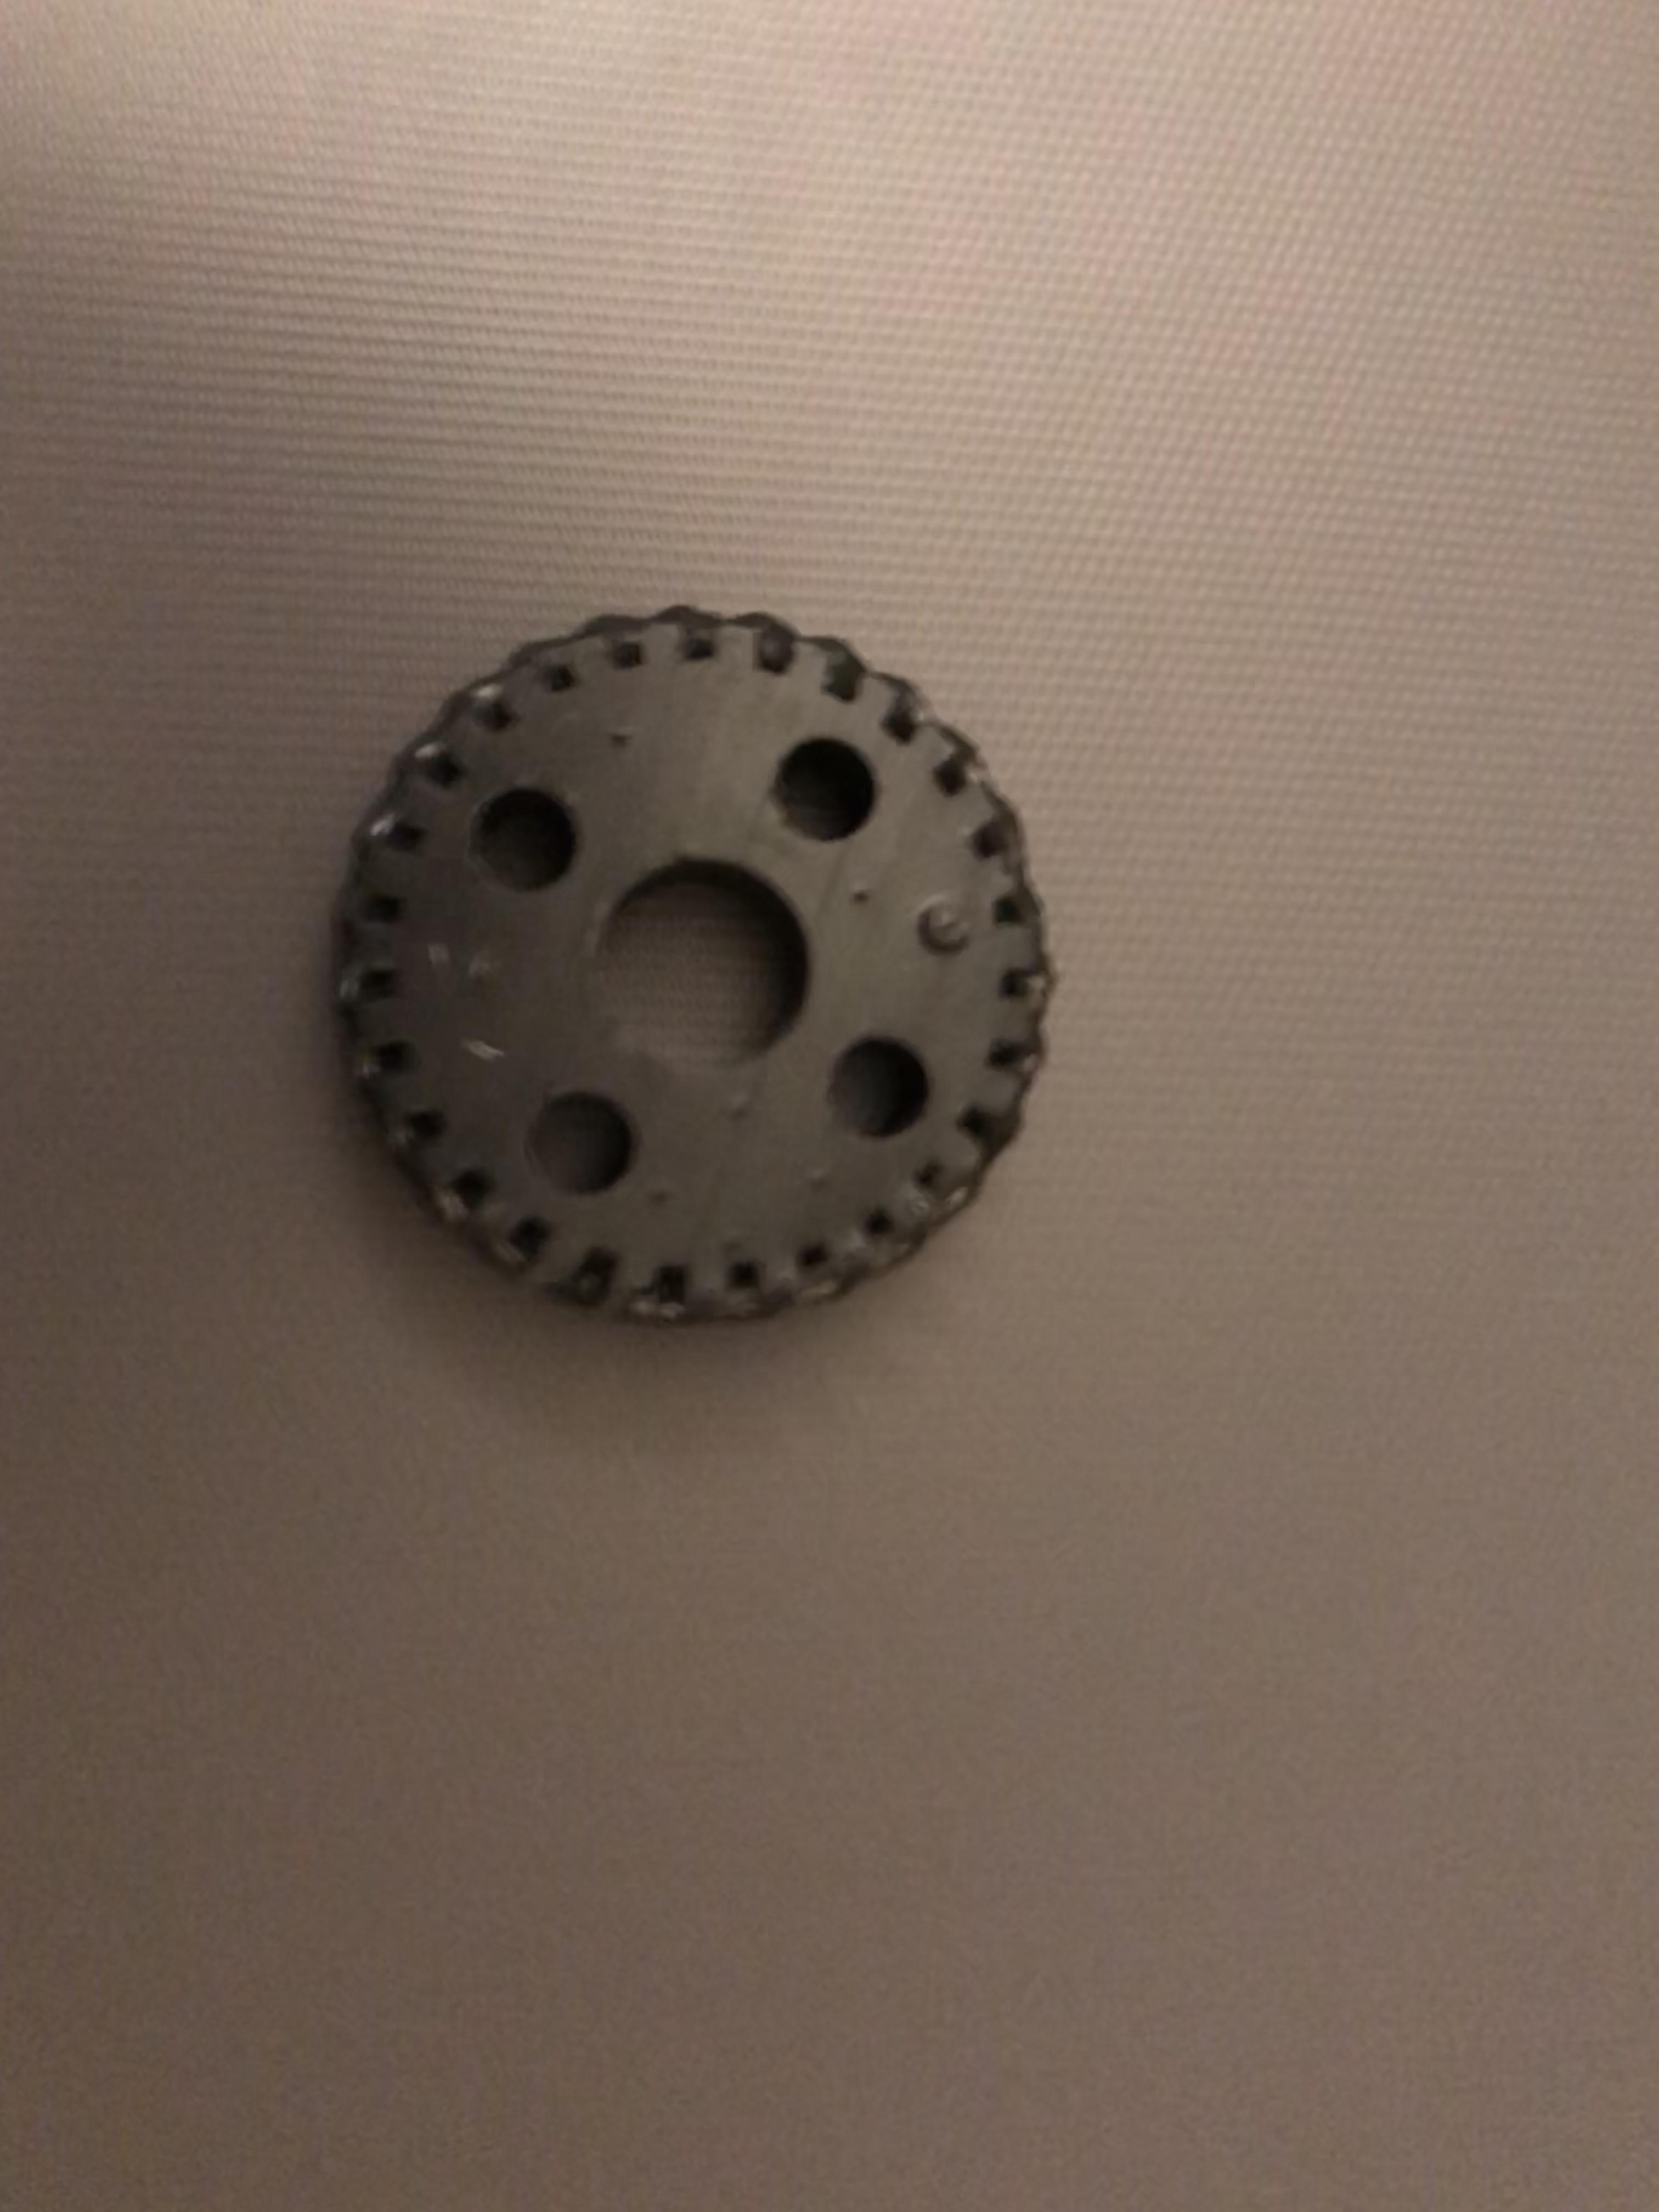Wheel: (340, 610, 1077, 1338)
